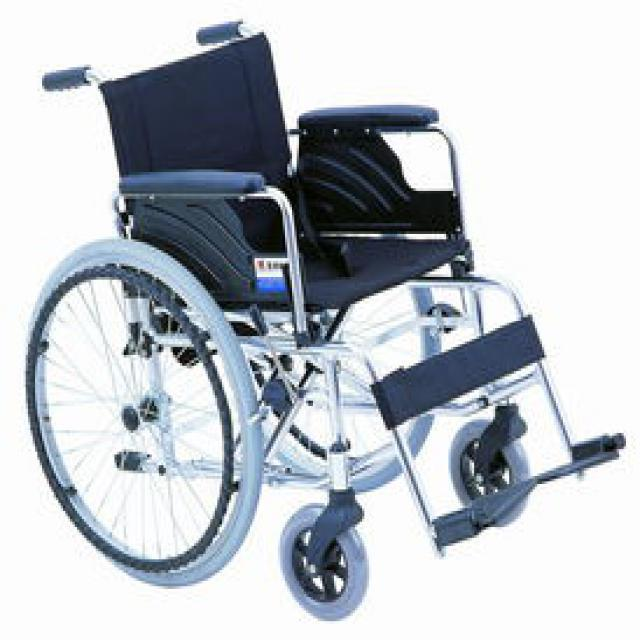wheelchair: (16, 14, 626, 618)
